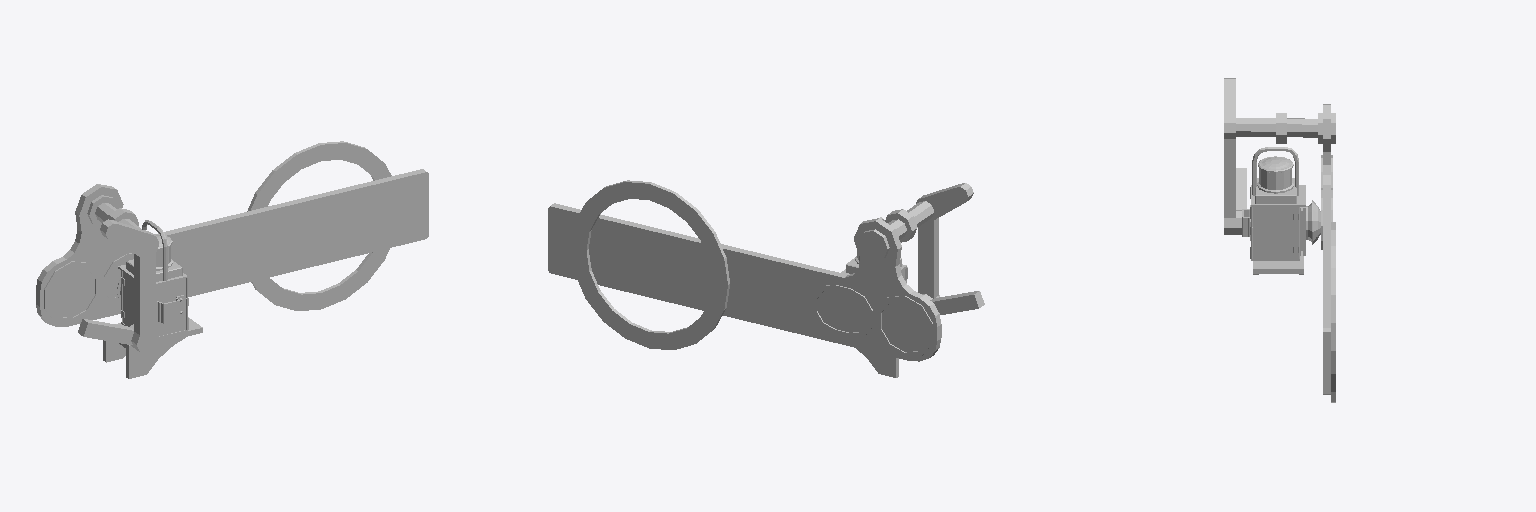
Rendered from lms_goods_loop_uq_danger.obj.
The picture shows the model from 3 angles: view 1: azimuth 30°, elevation 25°; view 2: azimuth 150°, elevation 25°; view 3: azimuth 270°, elevation 25°; orthographic projection.
Visible parts, largest first — view 1: Goods_Loop_Danger_Cube.047; view 2: Goods_Loop_Danger_Cube.047; view 3: Goods_Loop_Danger_Cube.047.
Boxes of the visible parts, <box> form: Goods_Loop_Danger_Cube.047: <box>36,141,428,378</box>; Goods_Loop_Danger_Cube.047: <box>548,180,984,377</box>; Goods_Loop_Danger_Cube.047: <box>1224,78,1335,402</box>.
Bounding box in the file's own units: 1.58 × 0.7315 × 0.3906.